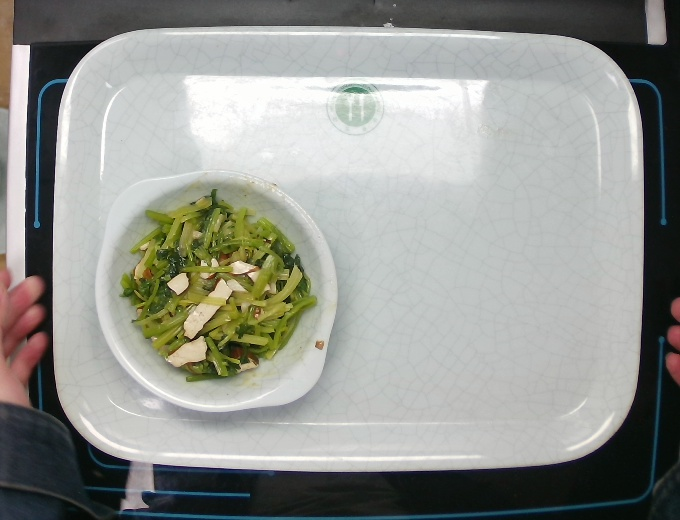JYsf-Shuang_Er_Wan: (92, 161, 341, 415)
